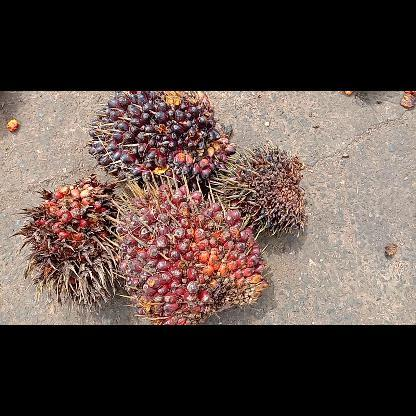Kurang masak: (87, 91, 237, 189)
TBS abnormal: (214, 146, 308, 236)
TBS masak: (108, 178, 272, 324)
Terlalu masak: (9, 174, 119, 312)
